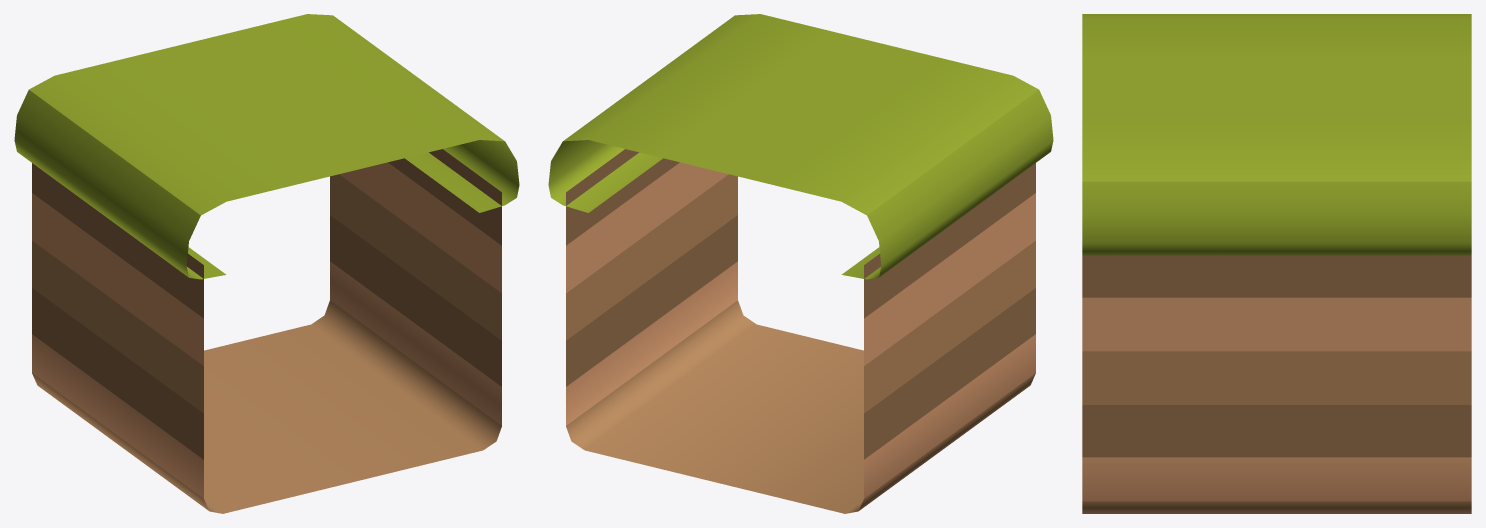
File: Cube_Grass_1x1Center_003.gltf
3 renders of one model, left to right at view 1: azimuth 30°, elevation 25°; view 2: azimuth 150°, elevation 25°; view 3: azimuth 270°, elevation 25°, orthographic. The views are drawn at different scales.
Visible parts, largest first — view 1: Cube_Grass_1x1Center.003; view 2: Cube_Grass_1x1Center.003; view 3: Cube_Grass_1x1Center.003.
Boxes of the visible parts, bbox=[...] form: Cube_Grass_1x1Center.003: bbox=[14, 14, 519, 513]; Cube_Grass_1x1Center.003: bbox=[548, 14, 1053, 513]; Cube_Grass_1x1Center.003: bbox=[1082, 14, 1471, 513].
Size of the model in its own units: 2.23 by 2 by 2.
